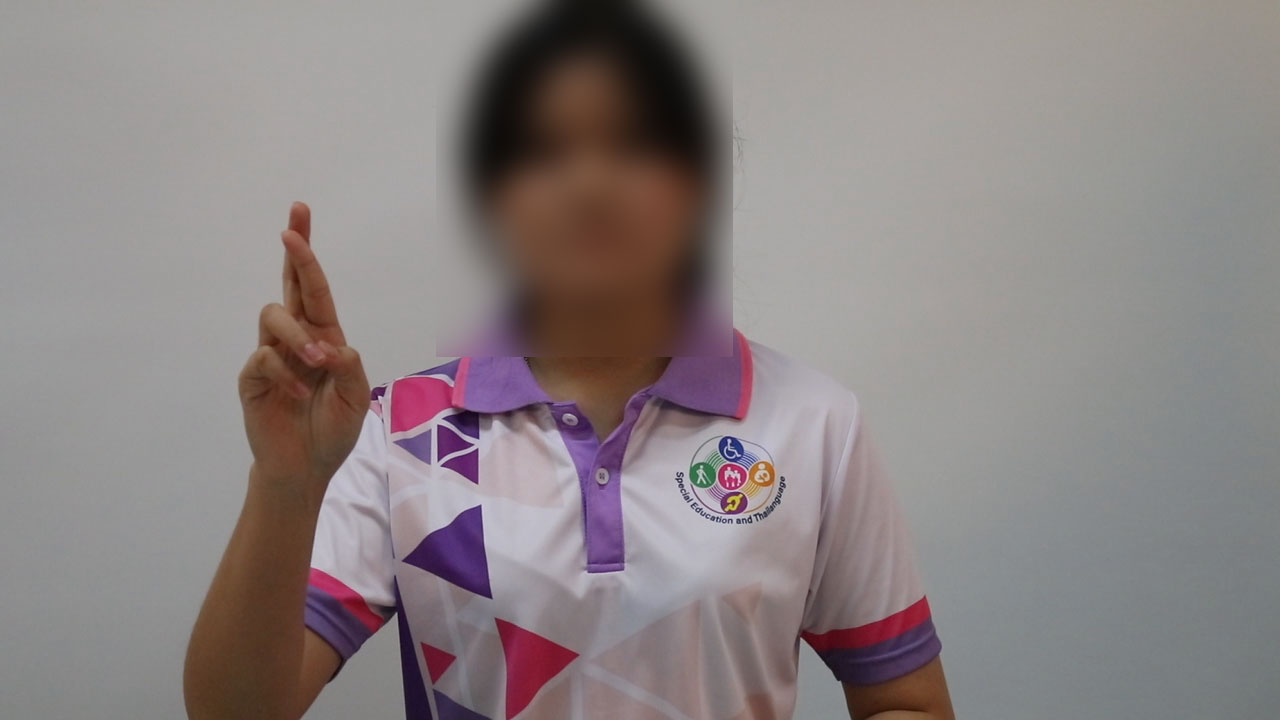rao: (205, 193, 383, 493)
